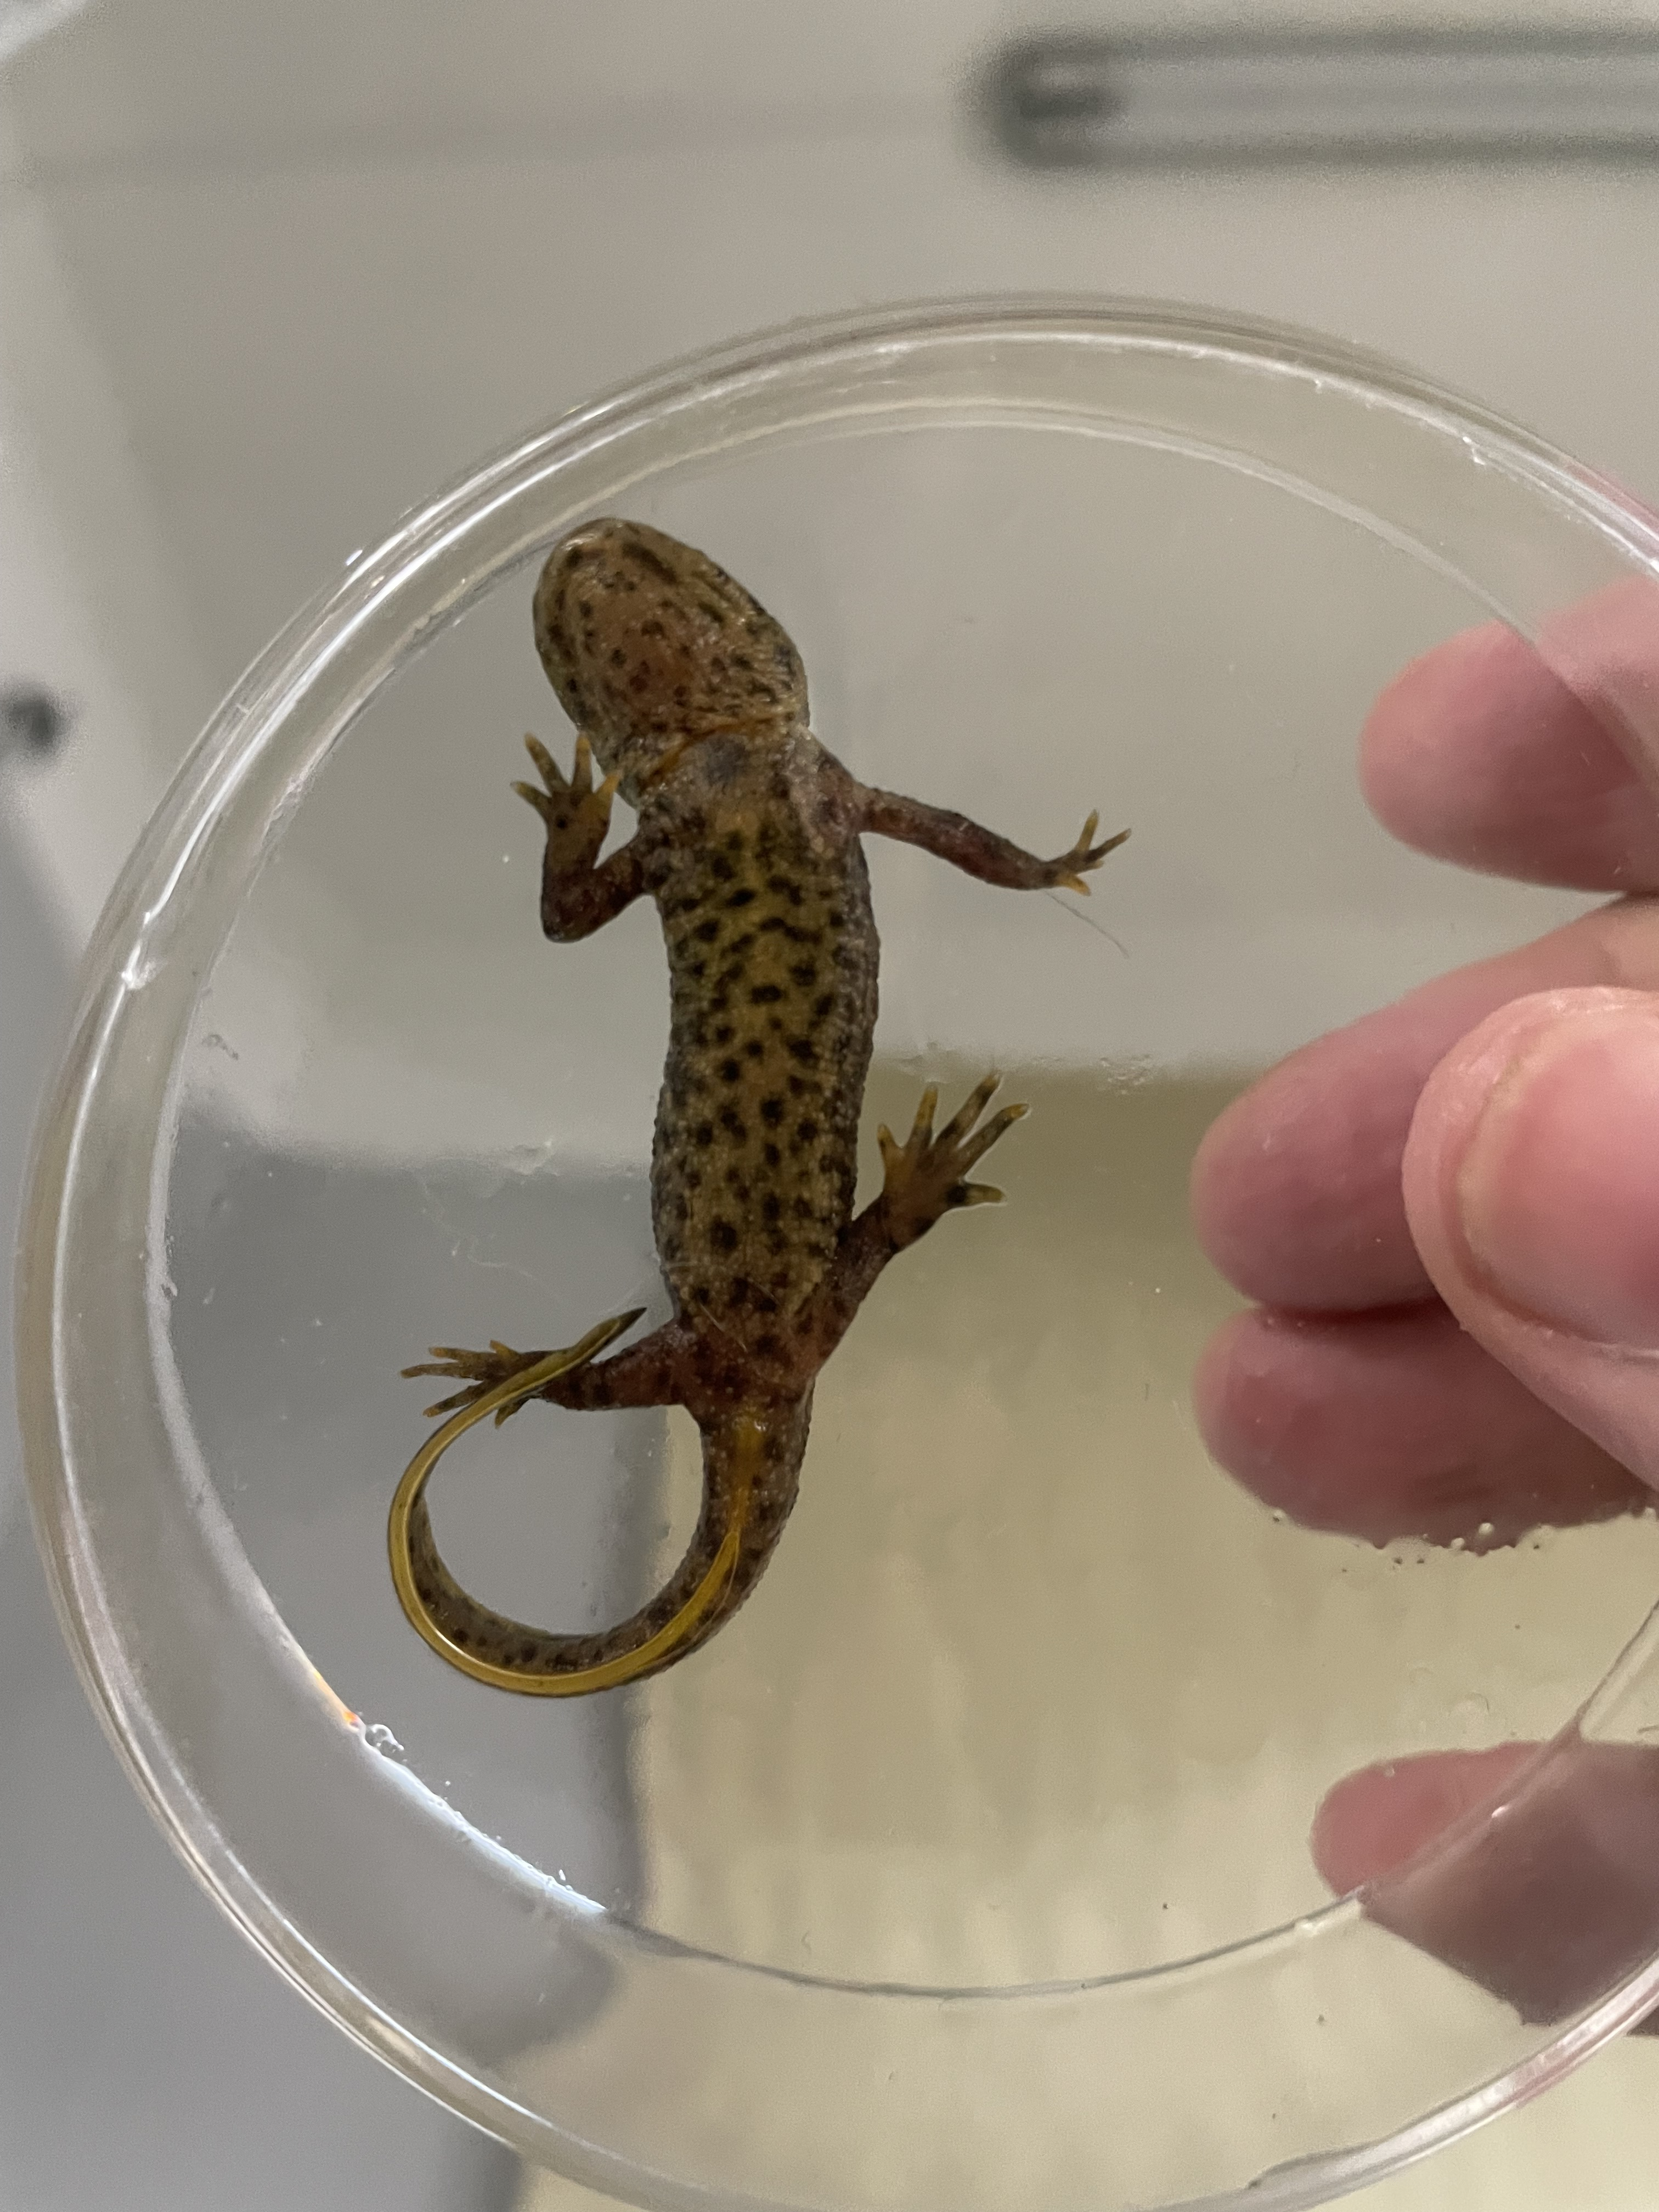newt_ribbed: (652, 833, 882, 1313)
